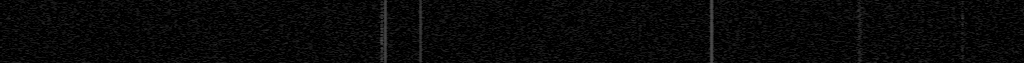wv_am: (709, 0, 715, 63)
wv_cw: (418, 0, 423, 63), (383, 0, 388, 63)
wv_lsb: (379, 1, 385, 62)
wv_usb: (960, 1, 965, 63)
wv_wbfm: (855, 0, 865, 63)
